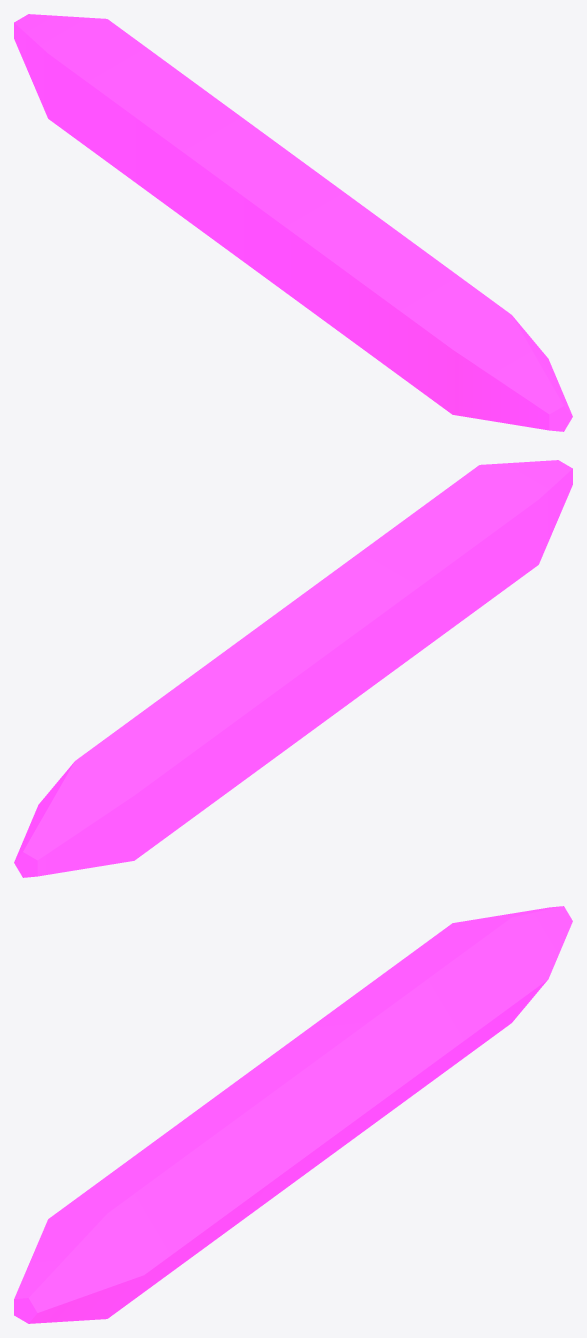
File: projectile.fbx
The picture shows the model from 3 angles, top to bottom: view 1: azimuth 30°, elevation 25°; view 2: azimuth 150°, elevation 25°; view 3: azimuth 330°, elevation 25°; orthographic projection.
Parts seen in each view (by area): view 1: projectile; view 2: projectile; view 3: projectile.
Boxes of the visible parts, box(x1,y1,x2,y2) form: projectile: box(14, 14, 572, 431); projectile: box(14, 460, 572, 877); projectile: box(14, 906, 572, 1323).
Bounding box in the file's own units: 1.84 × 1.93 × 17.75.
